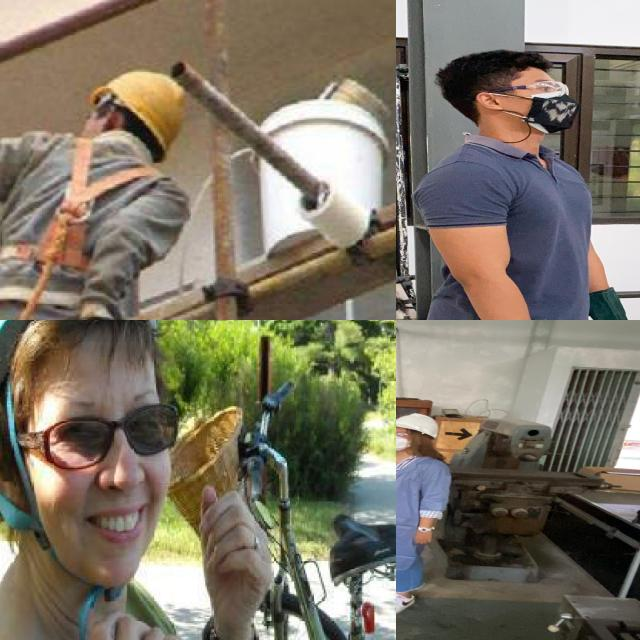Harness: (8, 134, 173, 278)
face_mask: (499, 77, 582, 132), (396, 429, 412, 451)
face_nomask: (36, 414, 172, 548)
glasses: (17, 400, 180, 474), (482, 77, 576, 99), (396, 429, 411, 440)
hand_glove: (578, 283, 640, 320)
hand_noglove: (191, 485, 275, 598), (79, 606, 186, 640), (412, 527, 436, 546)
head_helmet: (396, 411, 442, 437)
head_nohelmet: (0, 320, 161, 379), (434, 46, 556, 86)
person: (0, 320, 266, 640), (396, 49, 640, 320), (396, 412, 454, 618)
shoes: (396, 587, 419, 615)
